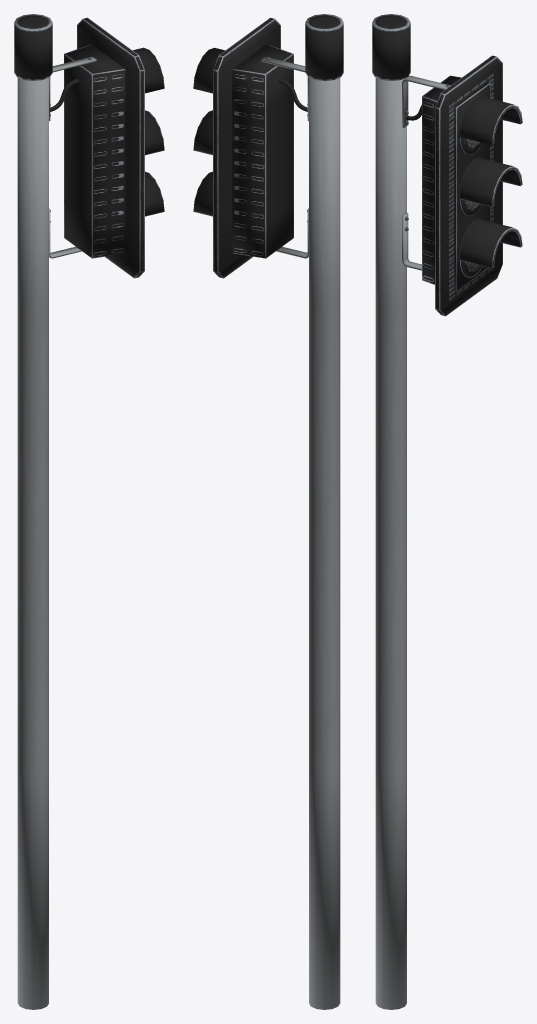
File: traffic_light.obj
The picture shows the model from 3 angles, left to right: view 1: azimuth 30°, elevation 25°; view 2: azimuth 150°, elevation 25°; view 3: azimuth 330°, elevation 25°; orthographic projection.
Visible parts, largest first — view 1: TRAFFIC_LIGHT_LATEST; view 2: TRAFFIC_LIGHT_LATEST; view 3: TRAFFIC_LIGHT_LATEST.
Boxes of the visible parts, x1,y1,x2,y2 form: TRAFFIC_LIGHT_LATEST: [14, 14, 164, 1009]; TRAFFIC_LIGHT_LATEST: [193, 14, 343, 1009]; TRAFFIC_LIGHT_LATEST: [372, 14, 522, 1009].
Size of the model in its own units: 0.6013 by 4.25 by 0.4934.
1 material, 1 textured.
